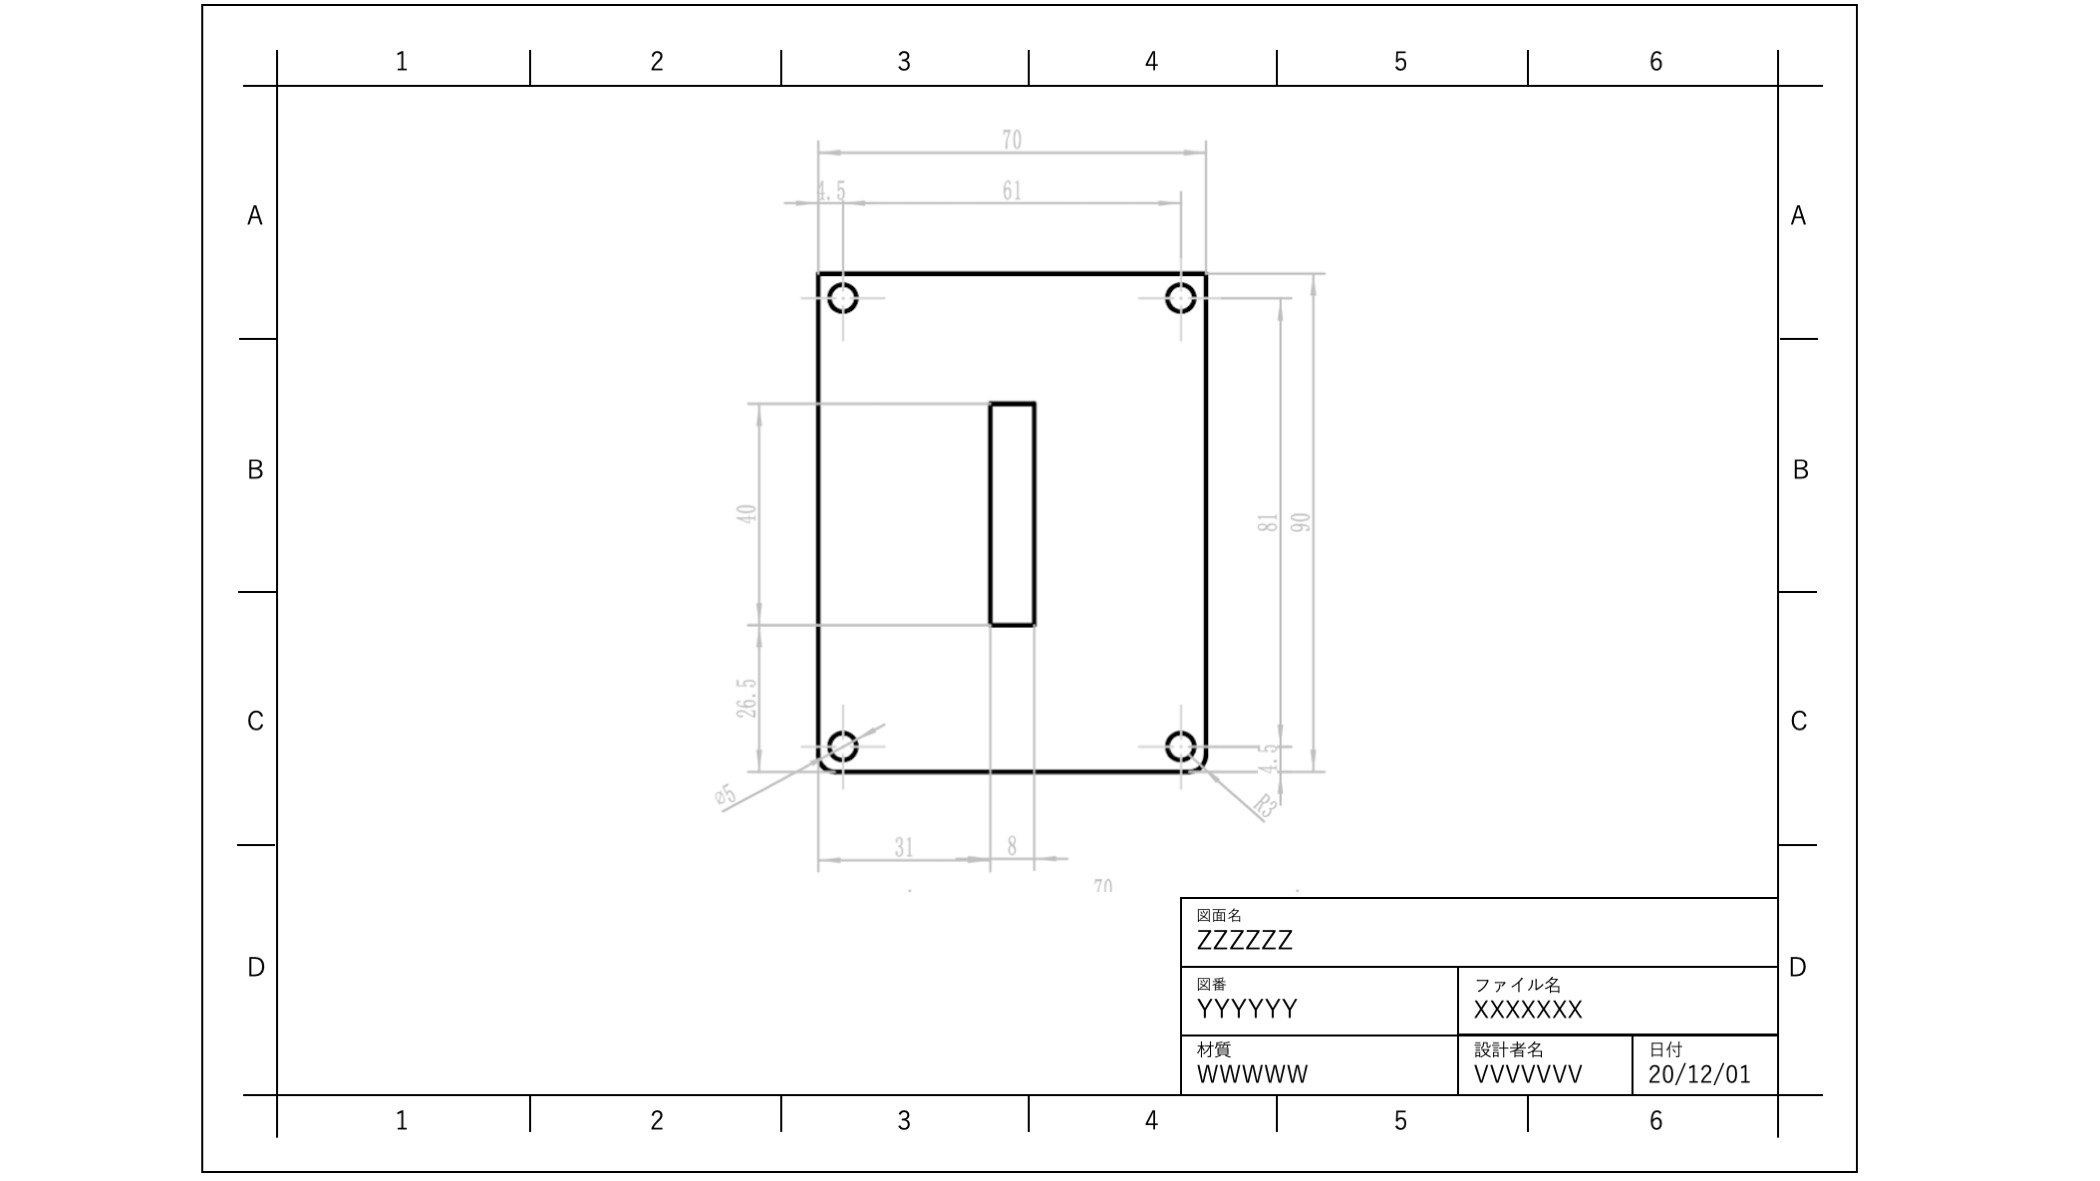circle: (1150, 712, 1201, 769), (822, 712, 862, 761), (824, 280, 862, 329), (1152, 281, 1201, 311)
rectangle: (976, 382, 1049, 630)
